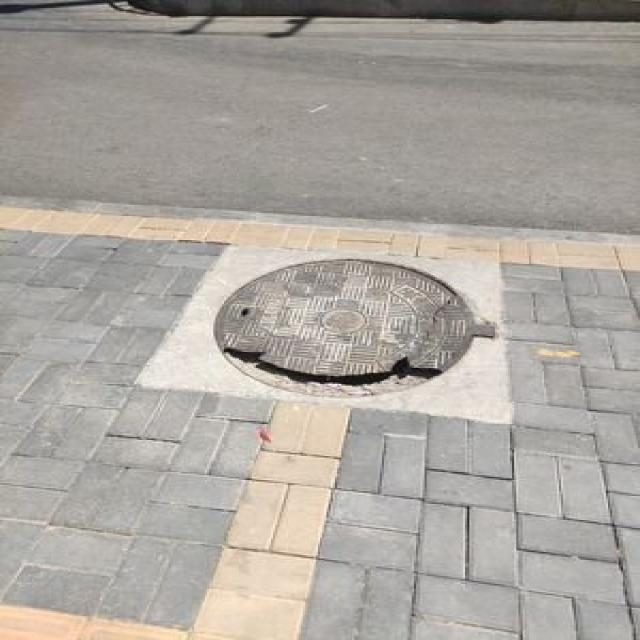manhole: (209, 253, 491, 395)
